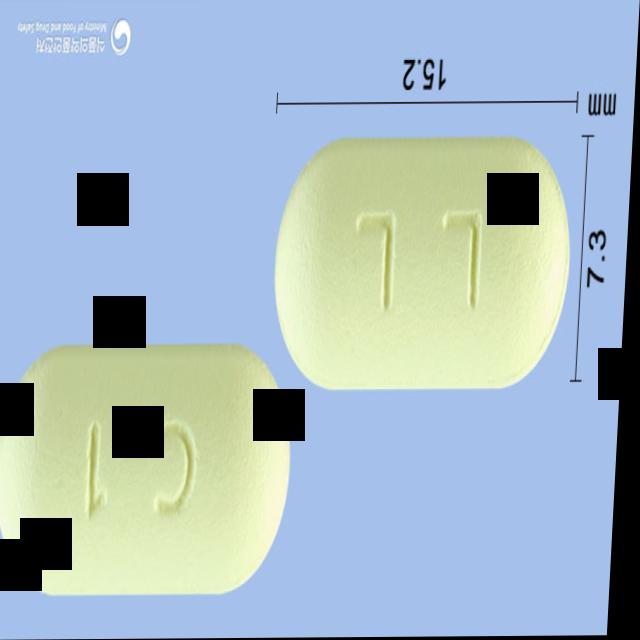Clratomin - 500mg: (271, 138, 578, 396), (0, 344, 301, 600)
